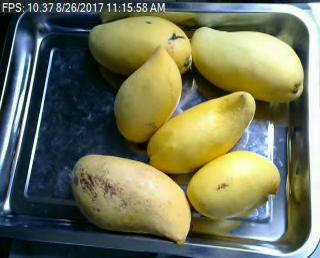Mango: (71, 154, 192, 244), (146, 89, 256, 174), (191, 26, 305, 102), (88, 15, 193, 79), (115, 45, 184, 142), (186, 148, 279, 218)
